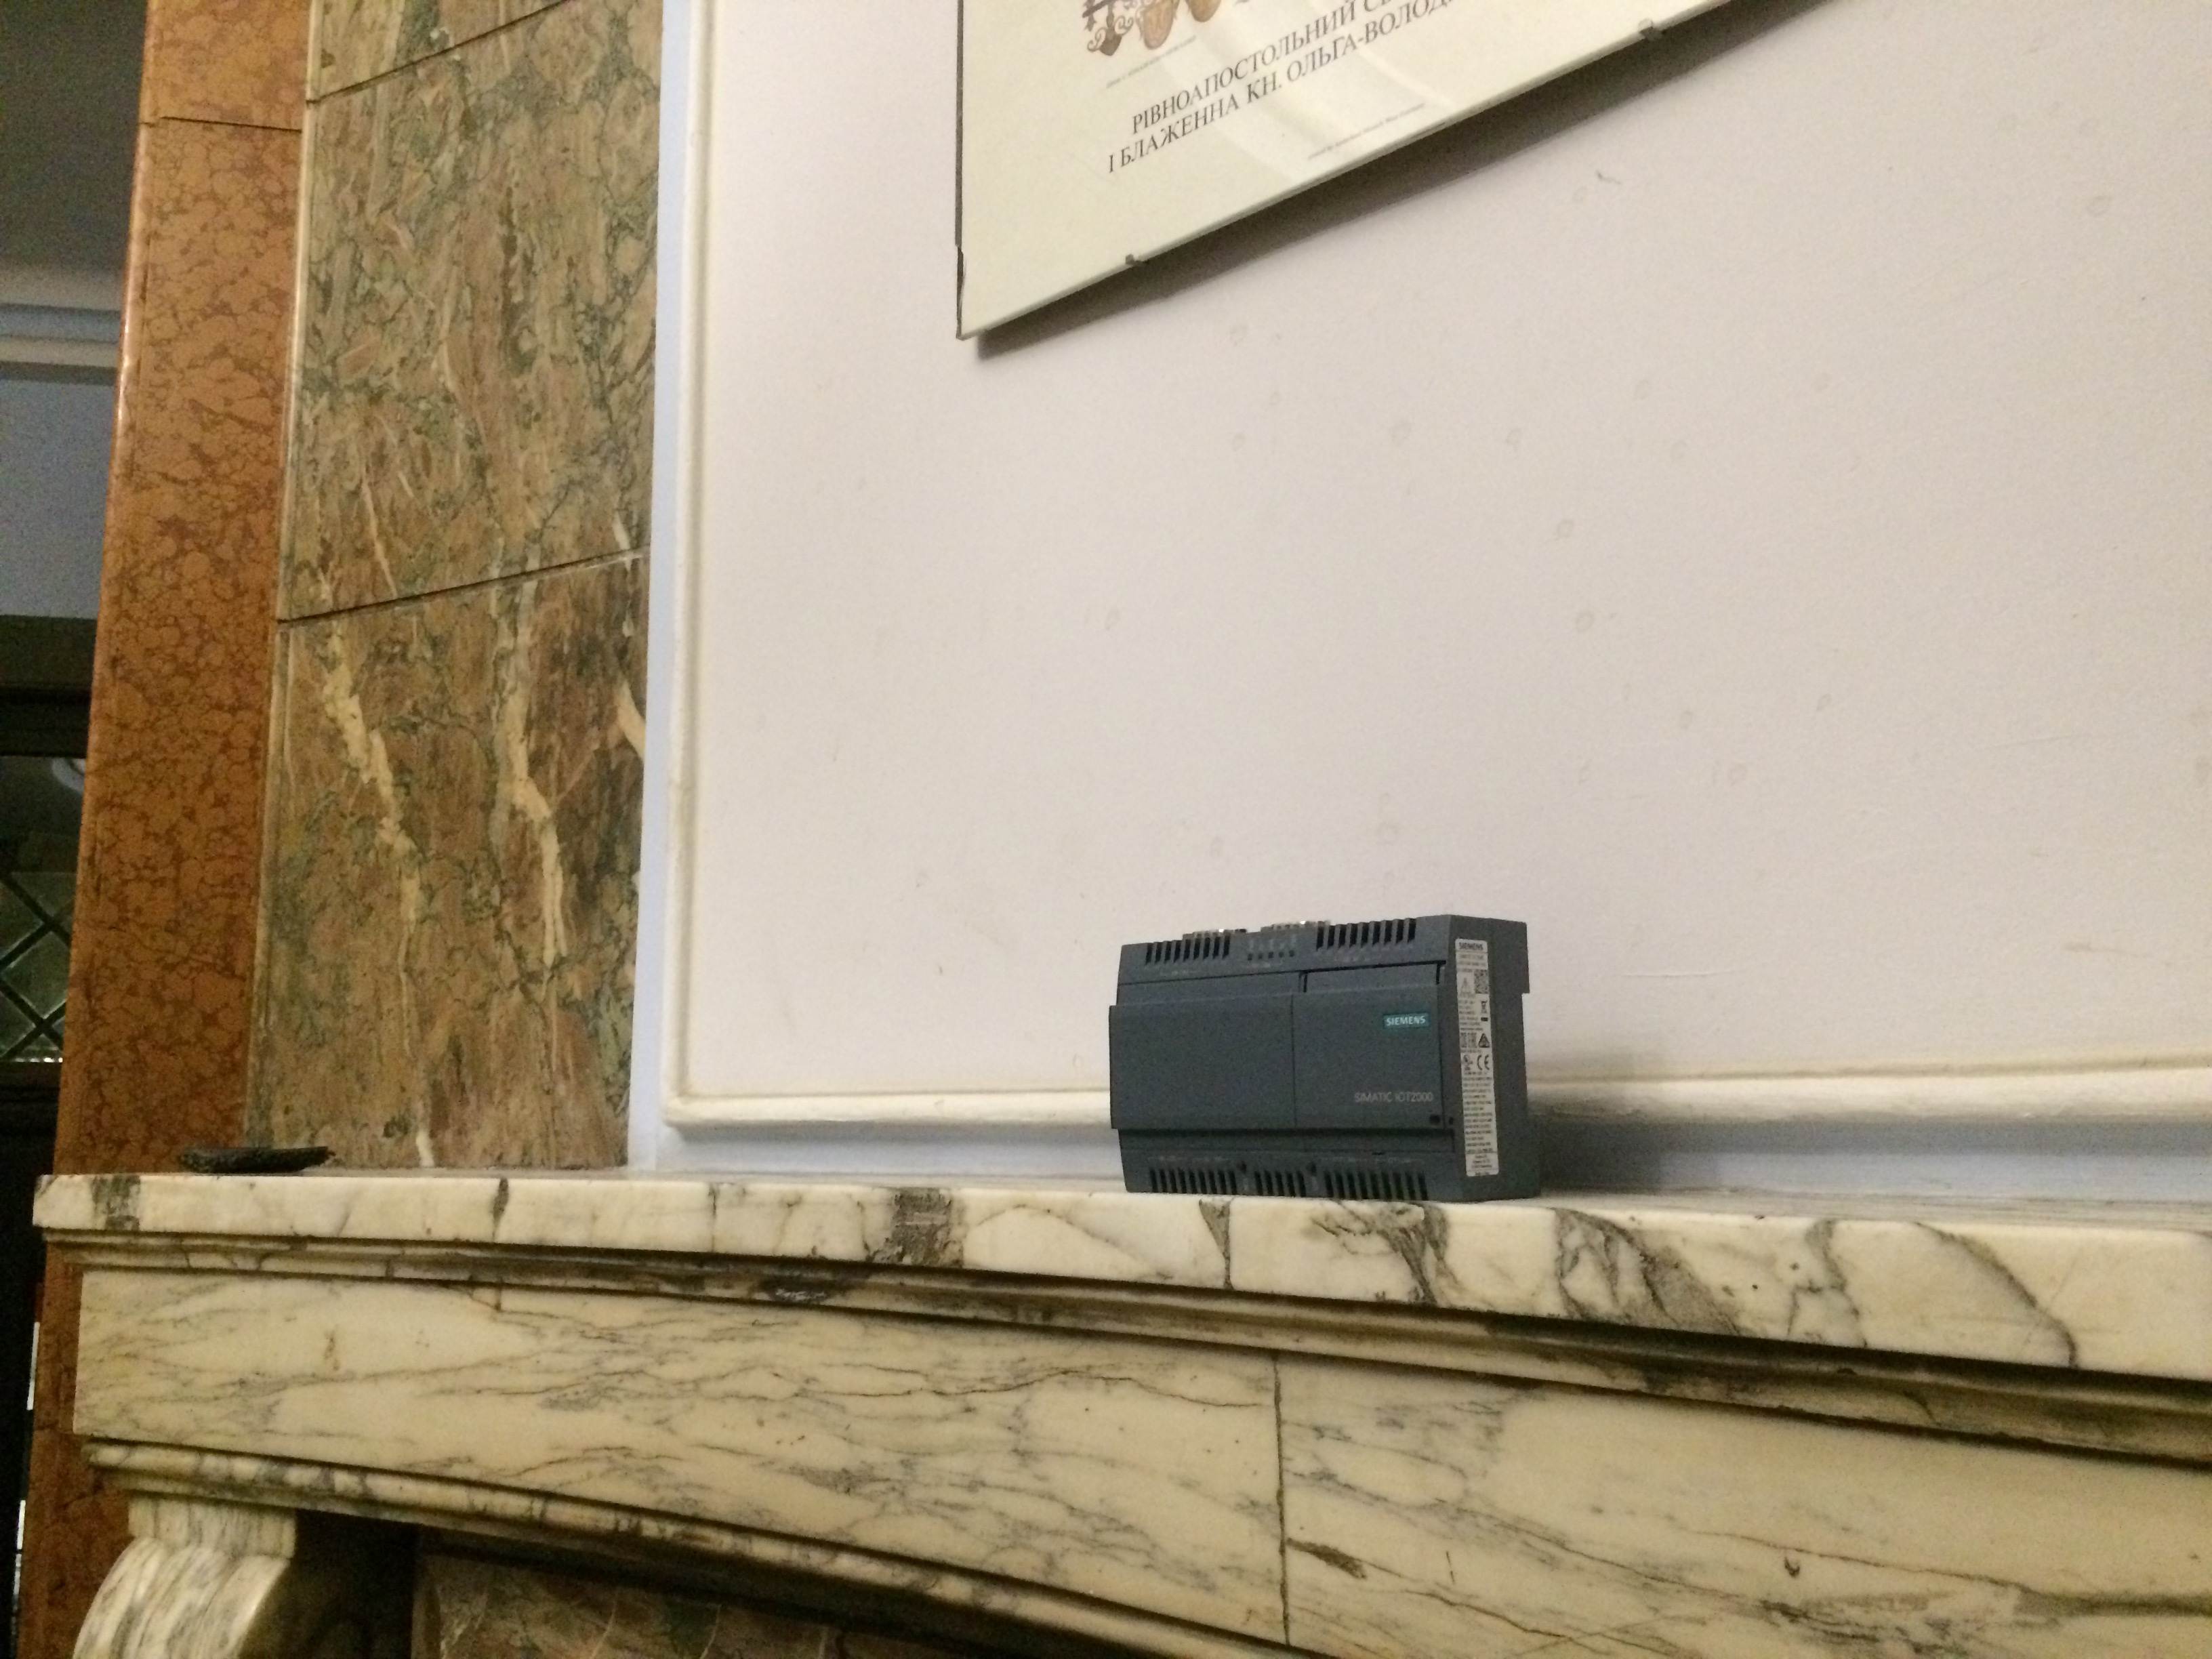iot2000: (1104, 910, 1540, 1204)
